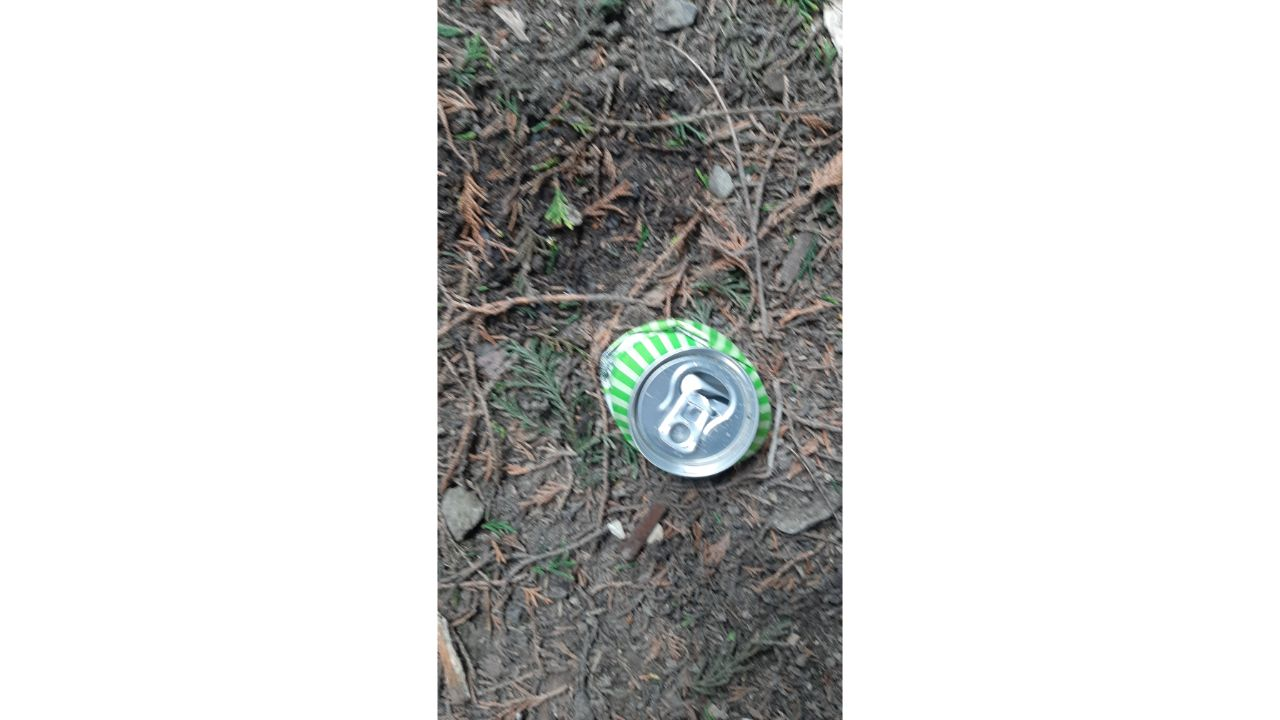Can: (597, 319, 769, 479)
